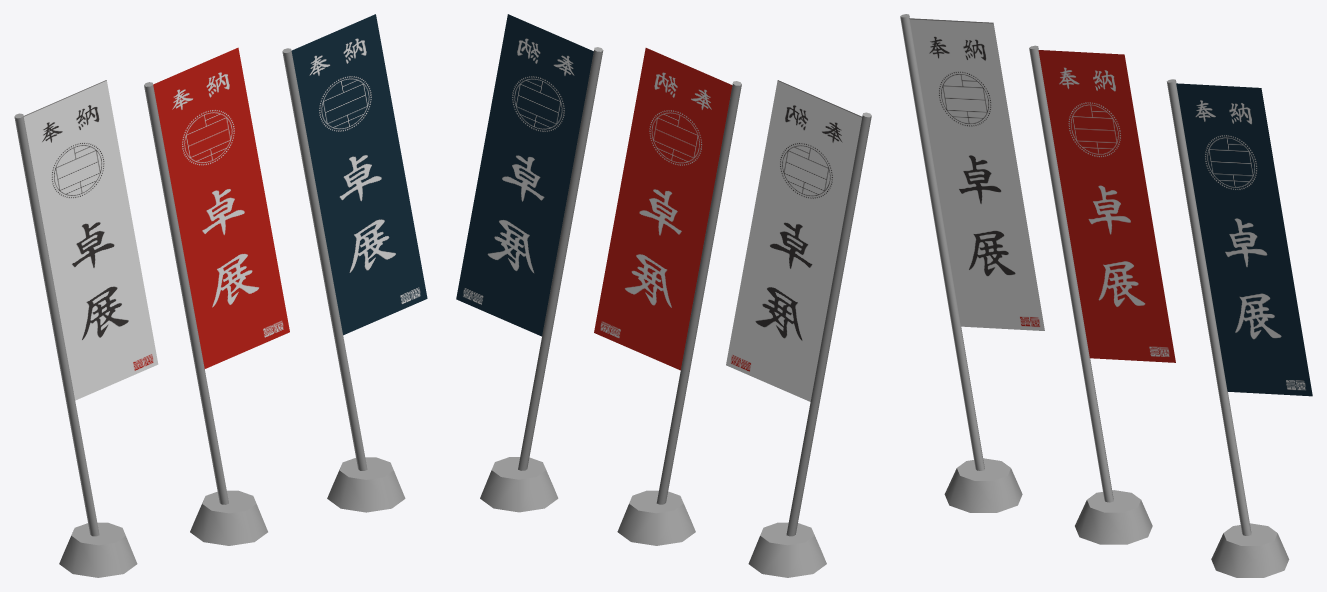
File: nobori.fbx
The picture shows the model from 3 angles, left to right: view 1: azimuth 30°, elevation 25°; view 2: azimuth 150°, elevation 25°; view 3: azimuth 330°, elevation 25°; orthographic projection.
Parts seen in each view (by area): view 1: pPlane1, pPlane2, pPlane3, pCylinder4, pCylinder6, pCylinder5, pCylinder1, pCylinder2, pCylinder3; view 2: pPlane1, pPlane2, pPlane3, pCylinder4, pCylinder6, pCylinder5, pCylinder1, pCylinder2, pCylinder3; view 3: pPlane1, pPlane2, pPlane3, pCylinder5, pCylinder6, pCylinder4, pCylinder2, pCylinder1, pCylinder3.
Boxes of the visible parts, x1,y1,x2,y2 form: pPlane1: (153, 47, 289, 368); pPlane2: (291, 14, 427, 335); pPlane3: (23, 80, 158, 400); pCylinder4: (14, 113, 99, 536); pCylinder6: (282, 48, 367, 470); pCylinder5: (144, 82, 228, 504); pCylinder1: (59, 522, 137, 577); pCylinder2: (190, 490, 267, 545); pCylinder3: (327, 457, 405, 512); pPlane1: (594, 48, 732, 370); pPlane2: (456, 14, 593, 336); pPlane3: (726, 80, 862, 401); pCylinder4: (786, 112, 871, 536); pCylinder6: (518, 47, 603, 470); pCylinder5: (656, 81, 741, 504); pCylinder1: (748, 522, 826, 577); pCylinder2: (617, 490, 695, 545); pCylinder3: (480, 457, 558, 512); pPlane1: (1038, 50, 1175, 362); pPlane2: (1176, 83, 1312, 396); pPlane3: (909, 18, 1044, 330); pCylinder5: (1029, 45, 1113, 502); pCylinder6: (1166, 79, 1251, 535); pCylinder4: (900, 14, 984, 470); pCylinder2: (1075, 490, 1152, 544); pCylinder1: (944, 458, 1022, 512); pCylinder3: (1211, 523, 1289, 577).
Size of the model in its own units: 5.44 by 6.03 by 0.8959.
